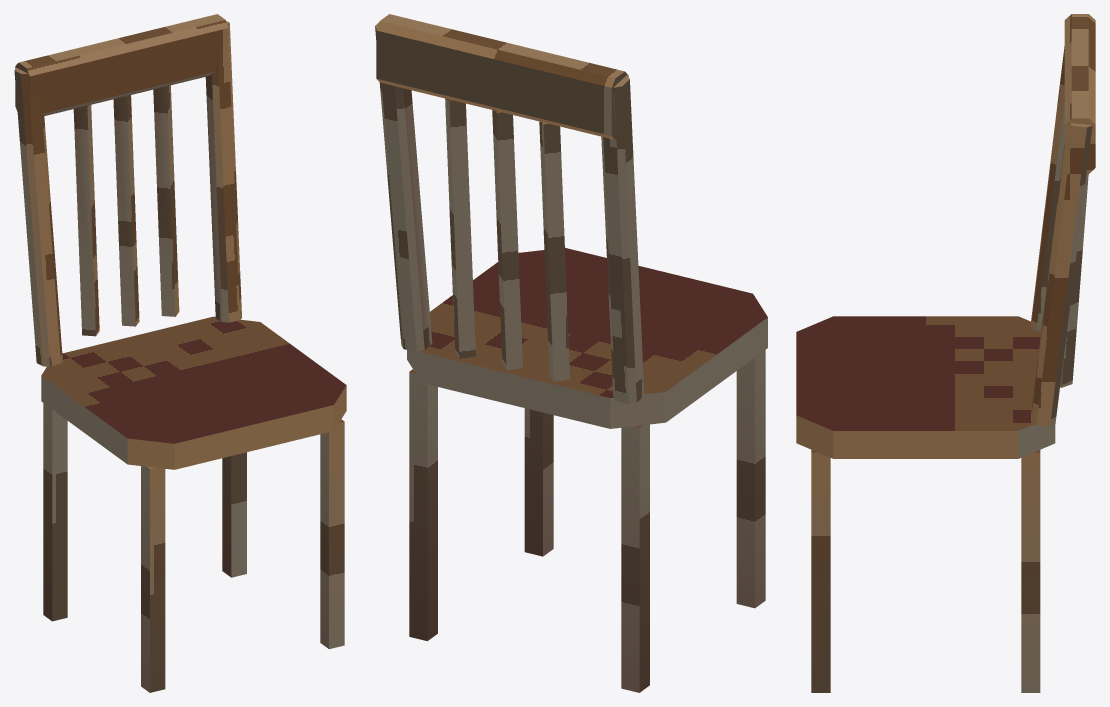
The model's file is wprop.chair.glb.
3 renders of one model, left to right at view 1: azimuth 30°, elevation 25°; view 2: azimuth 150°, elevation 25°; view 3: azimuth 270°, elevation 25°, orthographic. The views are drawn at different scales.
Visible parts, largest first — view 1: kit_seat, kit_legs, kit_back_posts, kit_spindles, kit_back; view 2: kit_seat, kit_legs, kit_back_posts, kit_back, kit_spindles; view 3: kit_seat, kit_back_posts, kit_legs, kit_back, kit_spindles.
Boxes of the visible parts, x1,y1,x2,y2 form: kit_seat: (41,316,346,469); kit_legs: (43,403,344,692); kit_back_posts: (14,21,241,366); kit_spindles: (73,85,179,336); kit_back: (15,14,228,115); kit_seat: (407,248,767,428); kit_legs: (409,350,765,692); kit_back_posts: (375,22,644,403); kit_back: (376,14,628,139); kit_spindles: (445,98,569,381); kit_seat: (796,316,1055,458); kit_back_posts: (1031,46,1092,426); kit_legs: (811,450,1040,692); kit_back: (1064,14,1095,174); kit_spindles: (1060,174,1088,387).
Size of the model in its own units: 0.44 by 1.03 by 0.485.
Materials: 2 (2 with a texture image).
